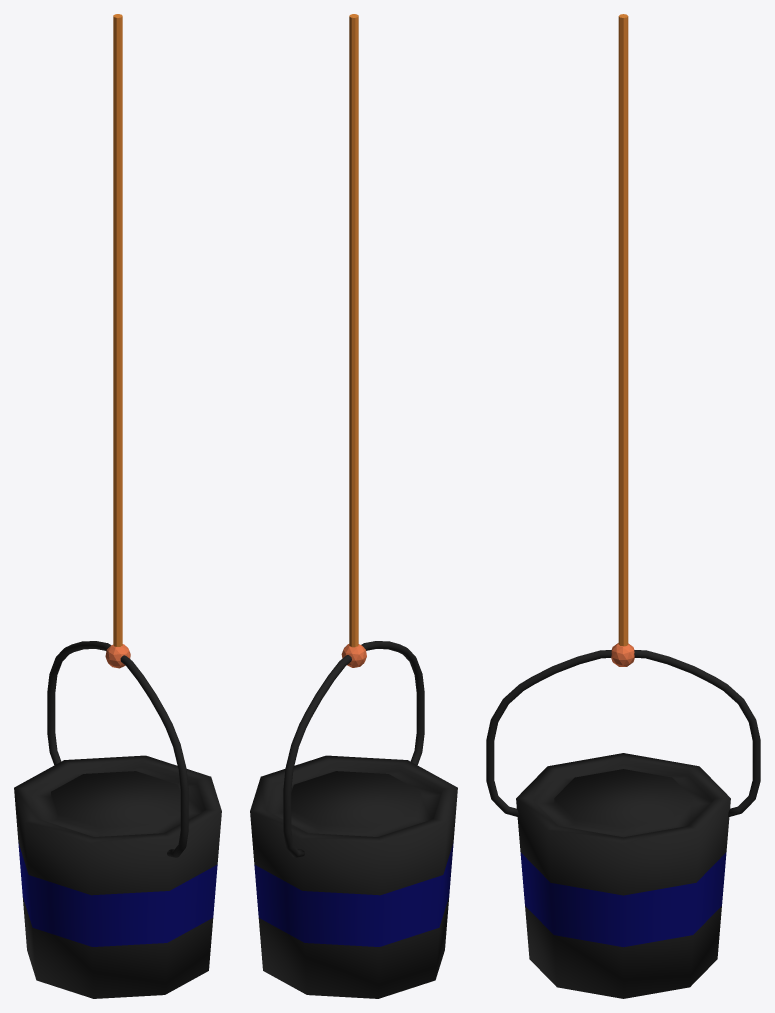
File: obst8.fbx
The picture shows the model from 3 angles, left to right: view 1: azimuth 30°, elevation 25°; view 2: azimuth 150°, elevation 25°; view 3: azimuth 270°, elevation 25°; orthographic projection.
Visible parts, largest first — view 1: Cylinder.002; view 2: Cylinder.002; view 3: Cylinder.002.
Boxes of the visible parts, bbox=[...] form: Cylinder.002: bbox=[14, 14, 221, 998]; Cylinder.002: bbox=[250, 14, 457, 998]; Cylinder.002: bbox=[486, 14, 760, 998].
Size of the model in its own units: 40.56 by 196 by 51.75.
